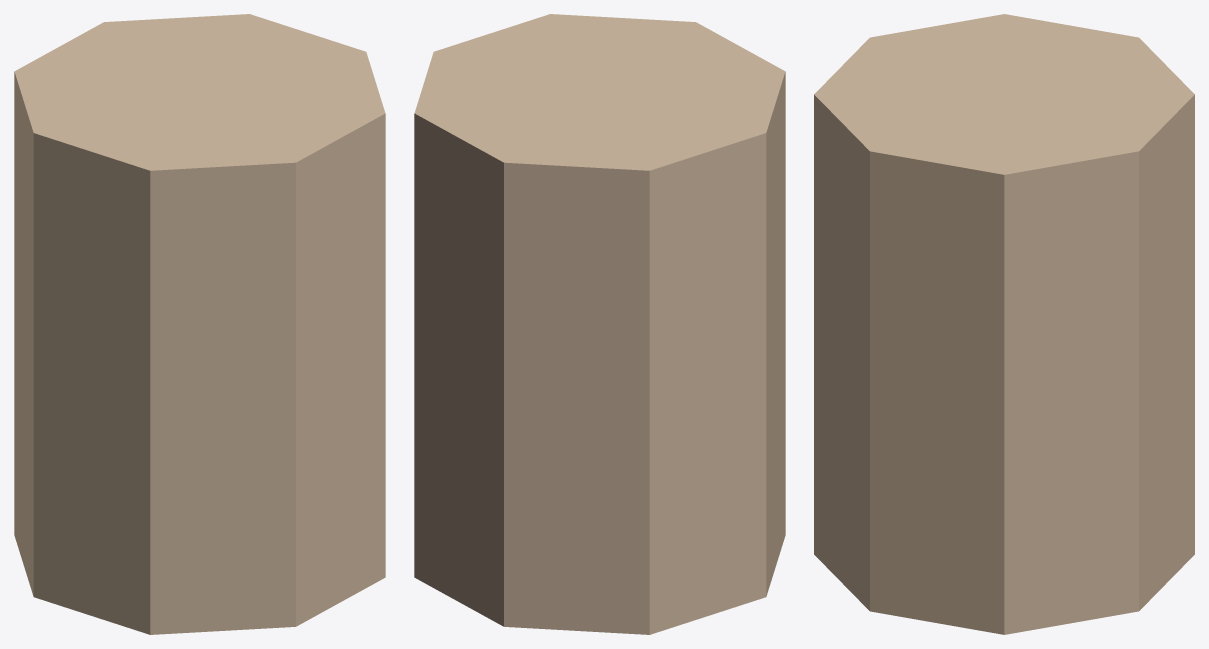
File: ring collider.obj
The picture shows the model from 3 angles, left to right: view 1: azimuth 30°, elevation 25°; view 2: azimuth 150°, elevation 25°; view 3: azimuth 270°, elevation 25°; orthographic projection.
Visible parts, largest first — view 1: collider; view 2: collider; view 3: collider.
Boxes of the visible parts, left/top/right/bottom form: collider: left=14, top=14, right=385, bottom=634; collider: left=414, top=14, right=785, bottom=634; collider: left=814, top=14, right=1194, bottom=634.
Size of the model in its own units: 1.88 by 2.5 by 1.88.
